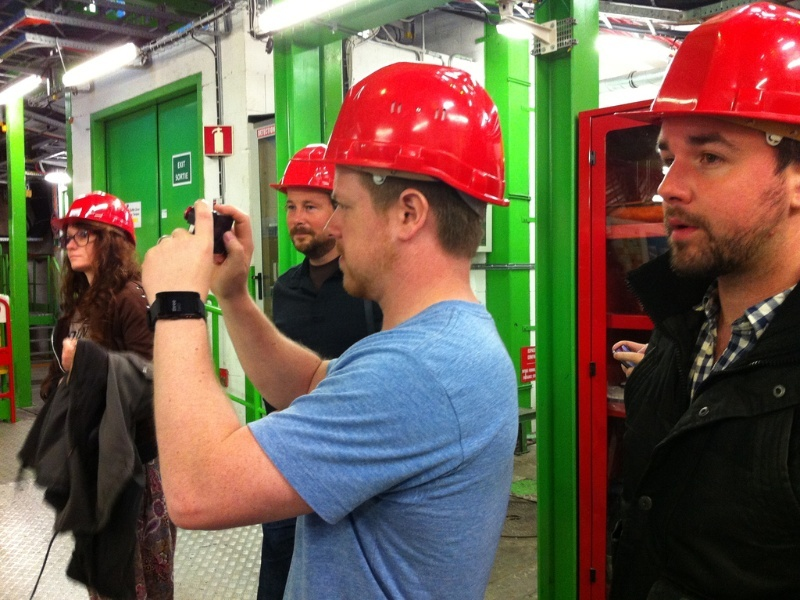baret: (317, 63, 512, 210), (50, 192, 137, 241)
